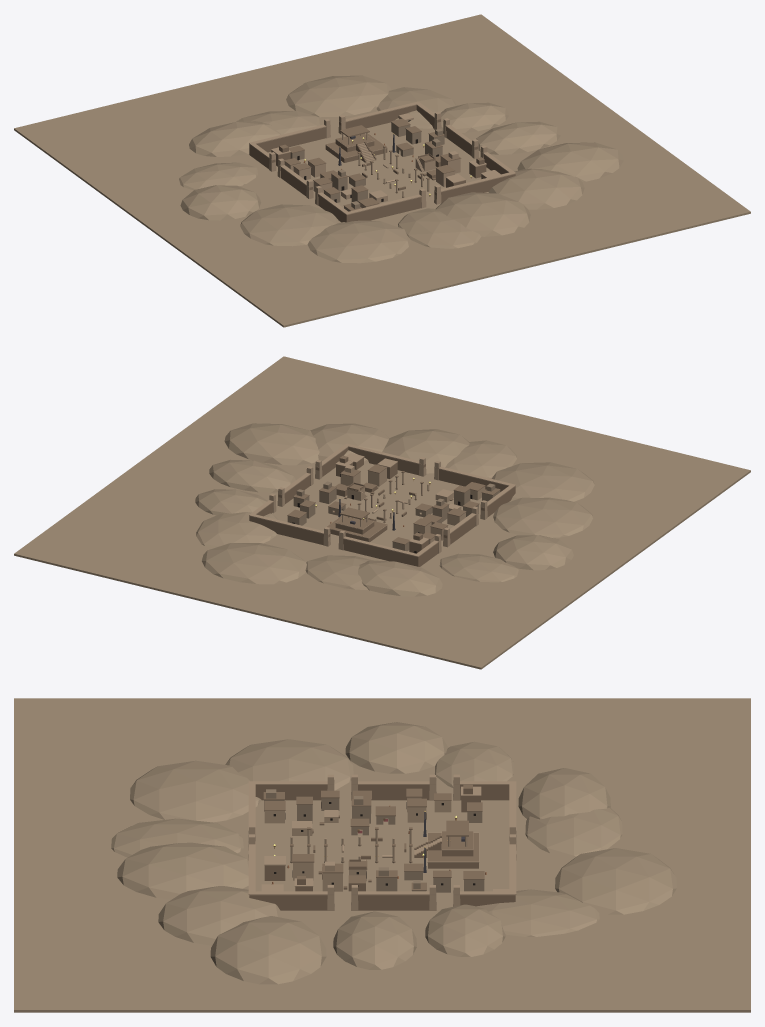
The model's file is level.glb.
3 renders of one model, top to bottom at view 1: azimuth 30°, elevation 25°; view 2: azimuth 150°, elevation 25°; view 3: azimuth 270°, elevation 25°, orthographic. The views are drawn at different scales.
Parts seen in each view (by area): view 1: Ground, L_DecoDune_10, L_DecoDune_4, L_DecoDune_9, L_DecoDune_12, L_DecoDune_14, L_DecoDune_13, L_DecoDune_8, L_DecoDune_11, L_DecoDune_6, L_DecoDune_1, L_DecoDune_7 (+8 smaller); view 2: Ground, L_DecoDune_4, L_DecoDune_9, L_DecoDune_14, L_DecoDune_10, L_DecoDune_6, L_DecoDune_12, L_DecoDune_8, L_DecoDune_1, L_DecoDune_3, L_DecoDune_13, L_DecoDune_11 (+8 smaller); view 3: Ground, L_DecoDune_4, L_DecoDune_14, L_DecoDune_10, L_DecoDune_12, L_DecoDune_13, L_DecoDune_9, L_DecoDune_8, L_DecoDune_3, L_DecoDune_1, L_DecoDune_6, L_DecoDune_5 (+9 smaller).
Boxes of the visible parts, x1,y1,x2,y2 form: Ground: [14, 14, 750, 327]; L_DecoDune_10: [307, 220, 410, 263]; L_DecoDune_4: [286, 75, 391, 117]; L_DecoDune_9: [240, 204, 339, 246]; L_DecoDune_12: [435, 192, 530, 236]; L_DecoDune_14: [517, 142, 623, 181]; L_DecoDune_13: [488, 168, 584, 209]; L_DecoDune_8: [180, 185, 261, 220]; L_DecoDune_11: [398, 208, 481, 248]; L_DecoDune_6: [189, 121, 280, 156]; L_DecoDune_1: [476, 121, 561, 154]; L_DecoDune_7: [179, 162, 257, 190]; Ground: [14, 356, 750, 669]; L_DecoDune_4: [202, 543, 306, 584]; L_DecoDune_9: [493, 497, 592, 537]; L_DecoDune_14: [224, 423, 319, 465]; L_DecoDune_10: [492, 462, 594, 501]; L_DecoDune_6: [358, 560, 442, 596]; L_DecoDune_12: [382, 429, 469, 473]; L_DecoDune_8: [493, 535, 573, 570]; L_DecoDune_1: [209, 459, 295, 492]; L_DecoDune_3: [196, 512, 278, 548]; L_DecoDune_13: [310, 423, 389, 463]; L_DecoDune_11: [445, 440, 516, 478]; Ground: [14, 698, 750, 1012]; L_DecoDune_4: [555, 848, 676, 914]; L_DecoDune_14: [210, 916, 326, 984]; L_DecoDune_10: [130, 760, 261, 822]; L_DecoDune_12: [117, 842, 248, 899]; L_DecoDune_13: [158, 886, 282, 945]; L_DecoDune_9: [225, 739, 353, 790]; L_DecoDune_8: [345, 722, 447, 773]; L_DecoDune_3: [476, 889, 599, 936]; L_DecoDune_1: [333, 911, 416, 969]; L_DecoDune_6: [518, 768, 610, 819]; L_DecoDune_5: [525, 807, 622, 857].
Bounding box in the file's own units: 260 × 21.18 × 260.
